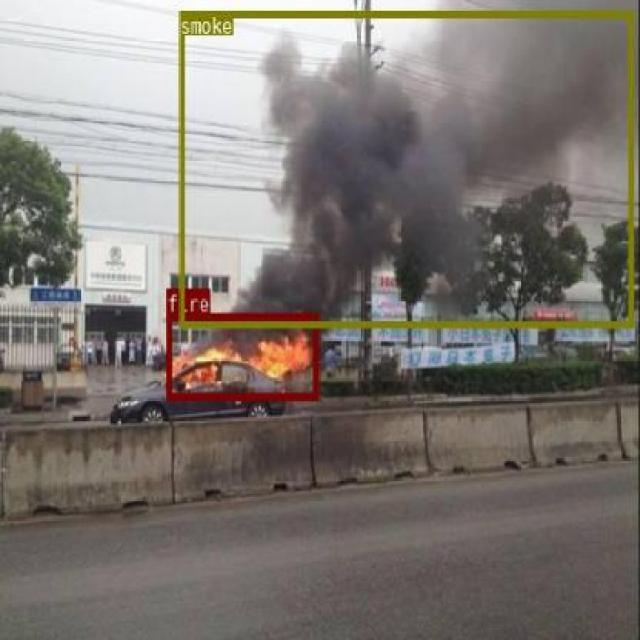Fire: (166, 312, 317, 398)
Smoke: (177, 10, 634, 327)
